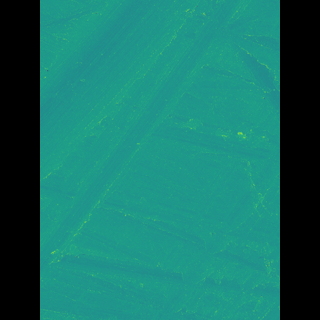Loch: (69, 0, 228, 288), (152, 118, 251, 320)
